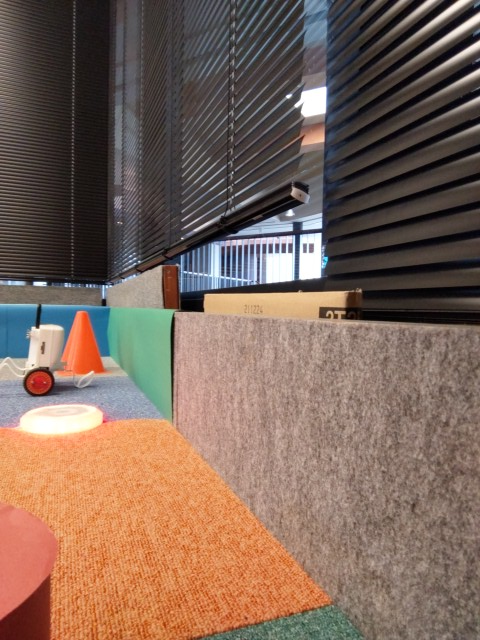bl: (1, 304, 100, 395)
r: (18, 401, 105, 438)
